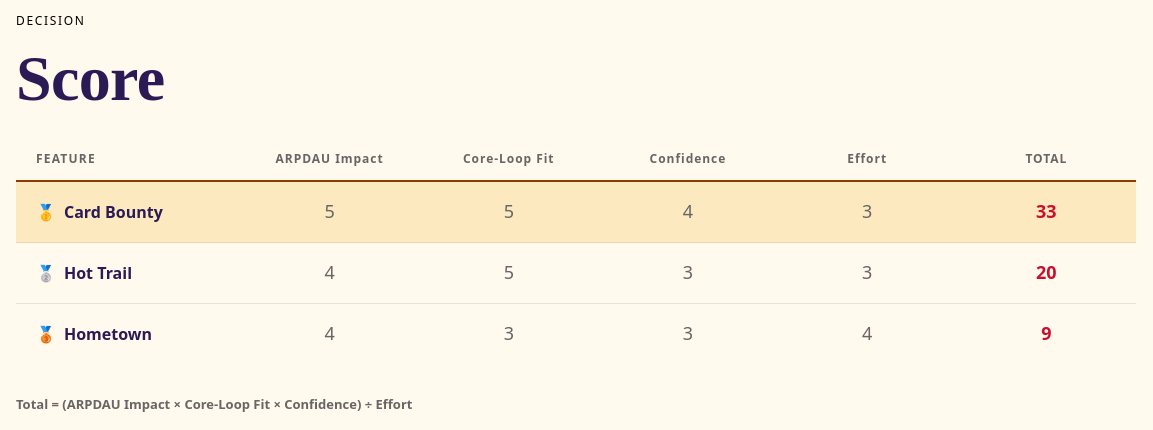
Test: MA presentation decision chapter › keeps the disclosure region quiet until a score is active
expect the message named "Score detail" does not show "Highest opportunity": met, box [16, 395, 412, 413]
expect the message named "Score detail" does not show "The strongest combination of ARPDAU impact": met, box [16, 395, 412, 413]
Focus the button named "Hot Trail: Core-Loop Fit score 5" at (509, 273), box [419, 243, 598, 303]
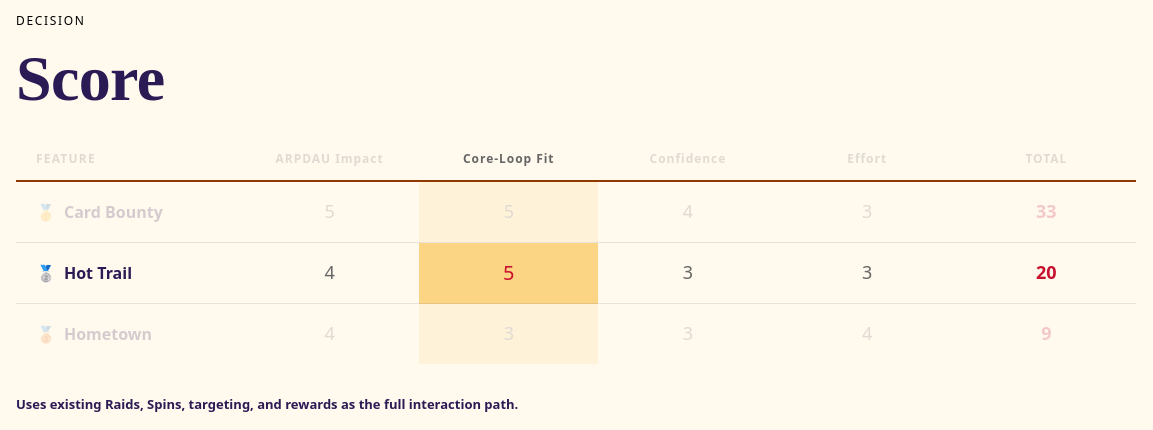
expect the message named "Score detail" does not show "Directly reinforces the existing core or meta loop.": met, box [16, 395, 518, 413]
expect the text with test id "score-formula" is gone: met
